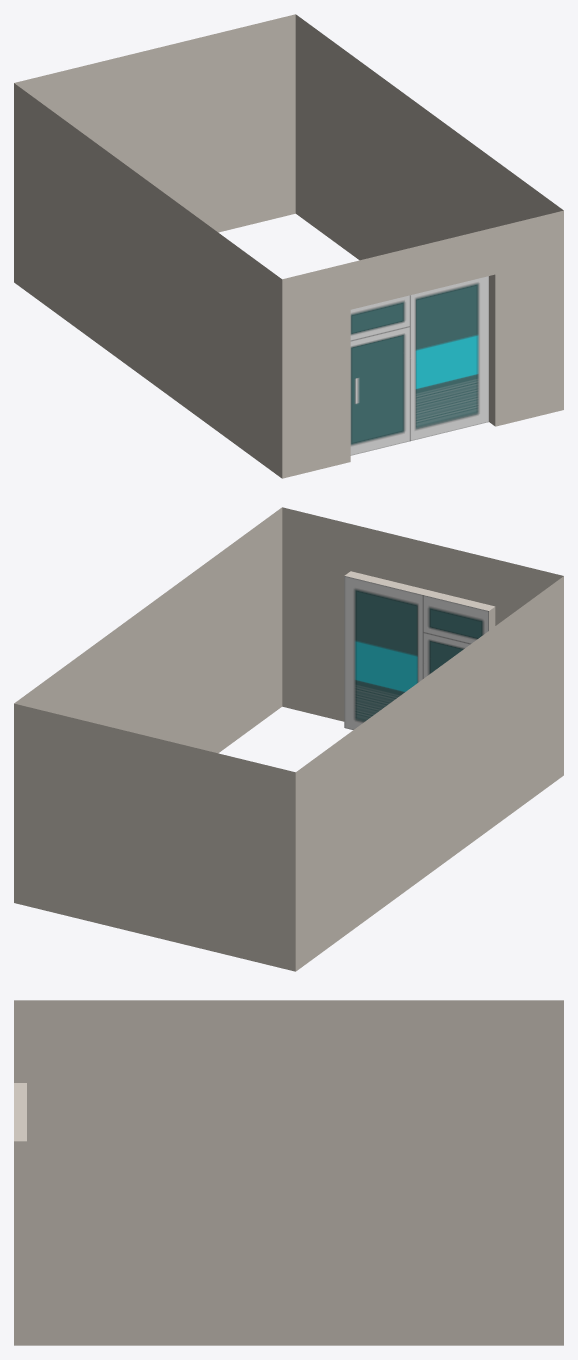
The model's file is Town_Bld-sm_BaseB.FBX.
3 renders of one model, top to bottom at view 1: azimuth 30°, elevation 25°; view 2: azimuth 150°, elevation 25°; view 3: azimuth 270°, elevation 25°, orthographic. The views are drawn at different scales.
Visible parts, largest first — view 1: Town_Bld-sm_BaseB; view 2: Town_Bld-sm_BaseB; view 3: Town_Bld-sm_BaseB.
Part boxes in pixels (x1=…): Town_Bld-sm_BaseB: x1=14, y1=14, x2=563, y2=478; Town_Bld-sm_BaseB: x1=14, y1=507, x2=563, y2=971; Town_Bld-sm_BaseB: x1=14, y1=1000, x2=563, y2=1345.
Size of the model in its own units: 301 by 204 by 497.
